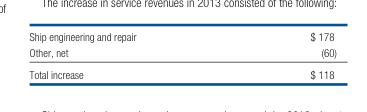table: (28, 29, 335, 80)
table column: (28, 29, 222, 80), (222, 29, 335, 80)
table row: (28, 43, 335, 63), (28, 63, 335, 80), (28, 29, 335, 43)
